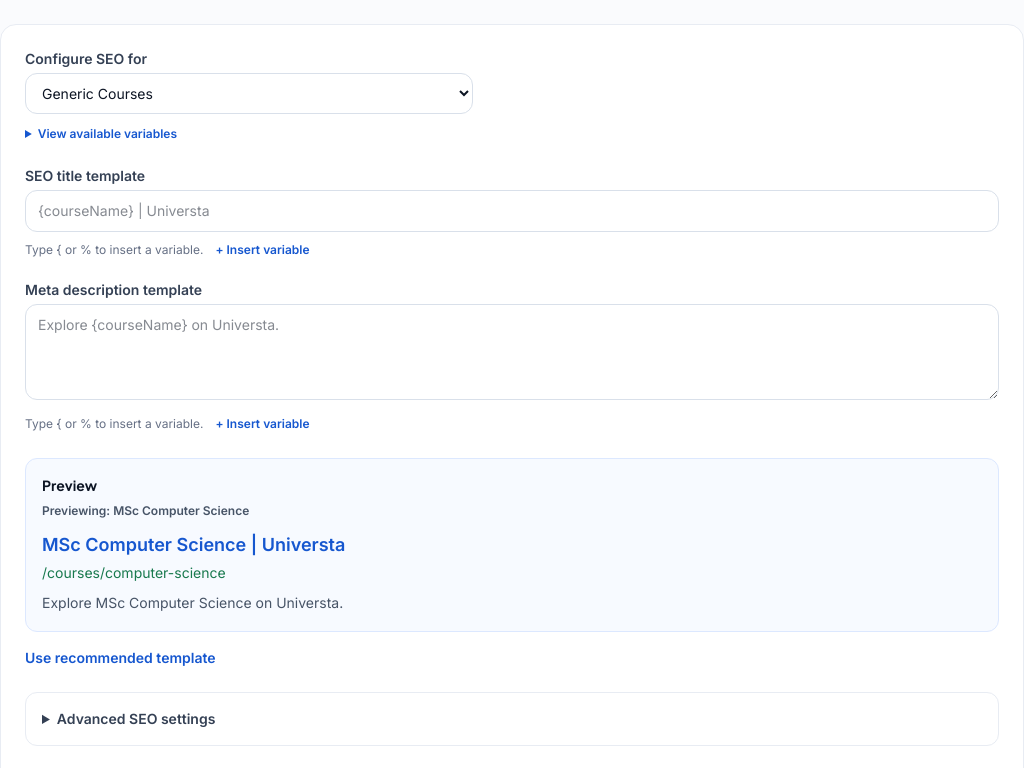
Test: BulkSeoManager › updates the live preview, applies a recommended safe template, and saves through the focused endpoint
This screenshot has width=1024, height=768.
Expected: the element named "Bulk SEO preview" shows "Previewing: MSc Computer Science", [25, 458, 999, 632]
Click the button "Use recommended template": x=120, y=658 [25, 648, 216, 668]
(page scrolled)
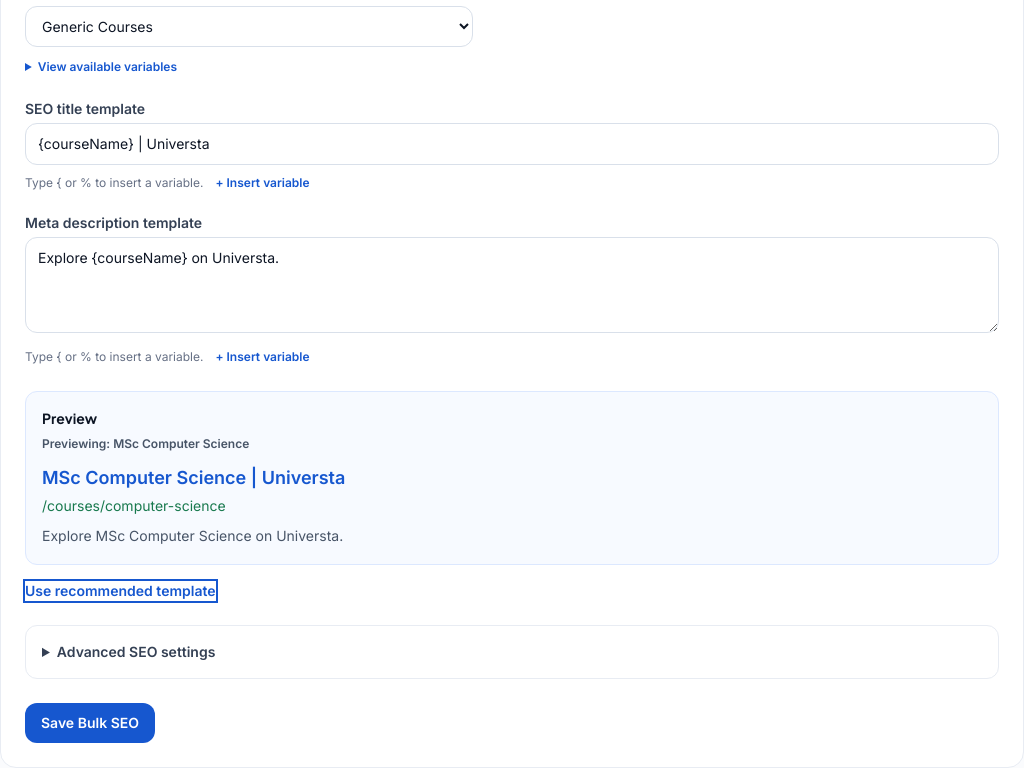
Now the field labelled "SEO title template" holds "{courseName} | Universta", box [25, 123, 999, 165]
Now the text box labelled "Meta description template" holds "Explore {courseName} on Universta.", box [25, 237, 999, 333]
Click the button "Save Bulk SEO": x=90, y=723 [25, 703, 155, 743]
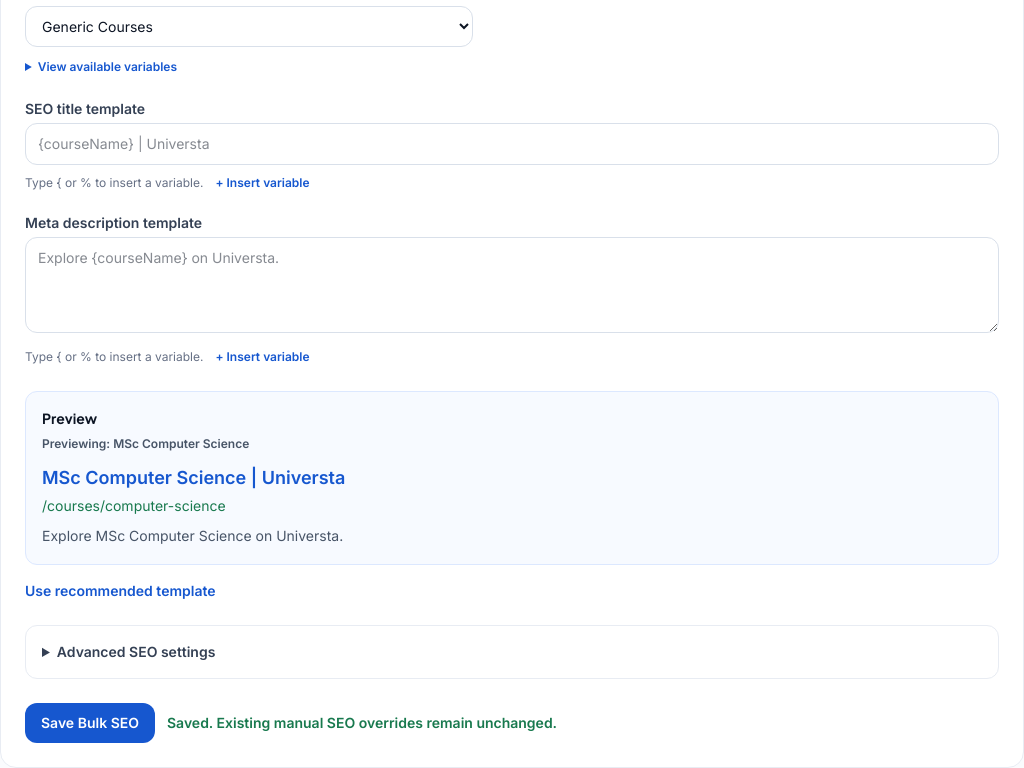
Now the message shows "Saved", box [167, 714, 557, 731]
